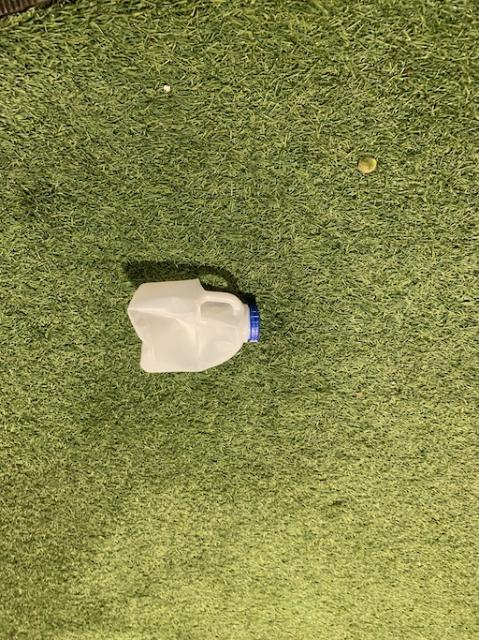plastic: (127, 278, 258, 370)
